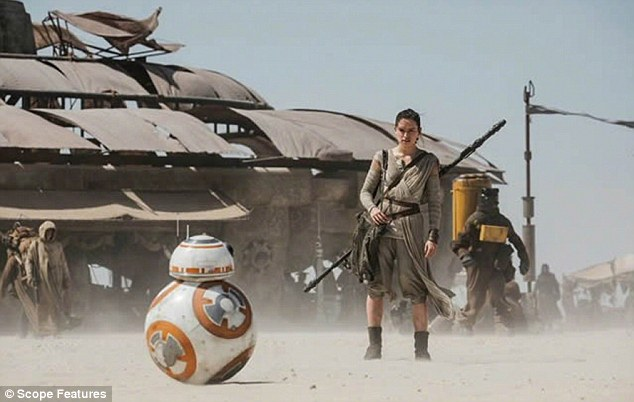bb8: (144, 233, 257, 385)
